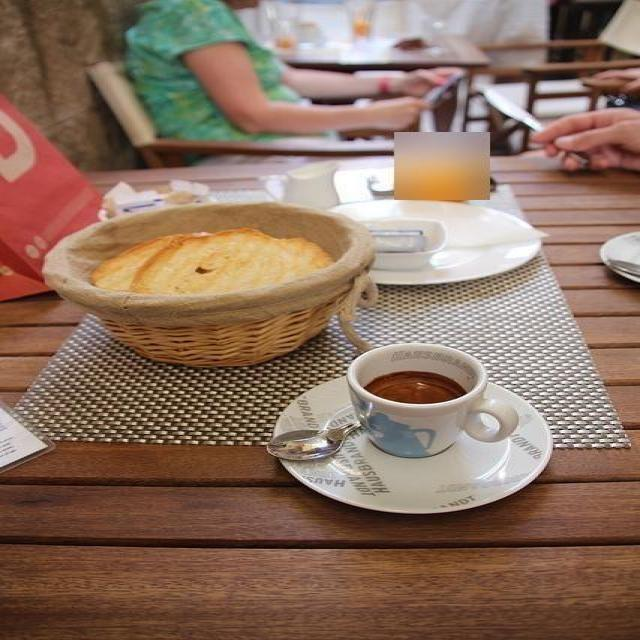cup-handle: (346, 342, 517, 458)
